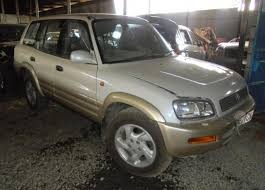Dent: (157, 84, 217, 100)
